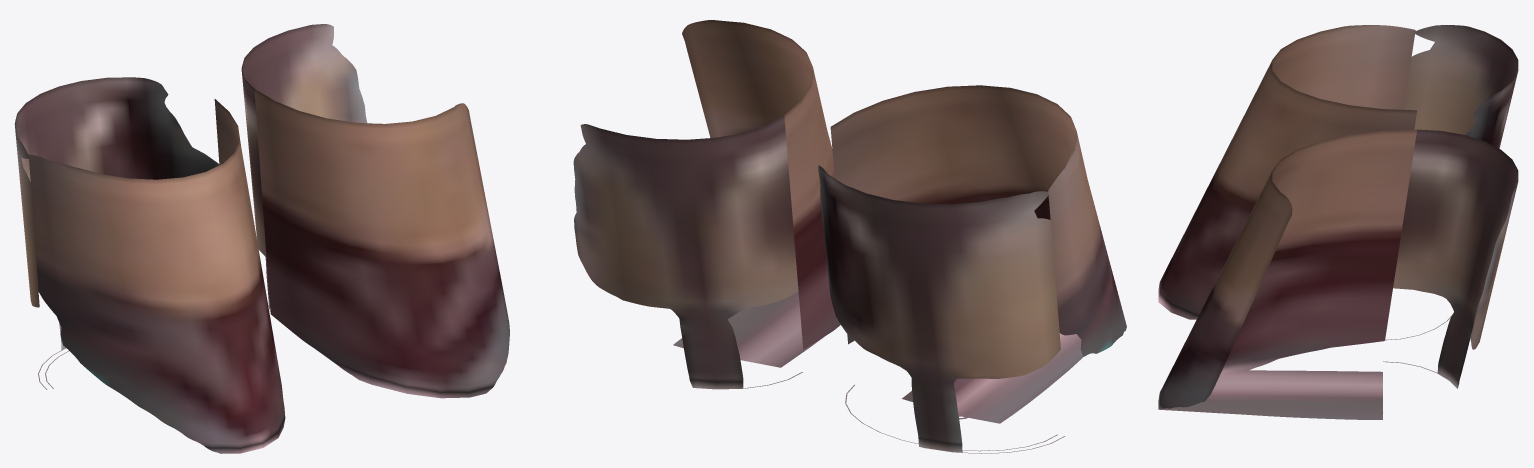
The model's file is prod-ae-burgundy-patent-heels.glb.
3 renders of one model, left to right at view 1: azimuth 30°, elevation 25°; view 2: azimuth 150°, elevation 25°; view 3: azimuth 270°, elevation 25°, orthographic. The views are drawn at different scales.
Parts seen in each view (by area): view 1: prod-ae-burgundy-patent-heels; view 2: prod-ae-burgundy-patent-heels; view 3: prod-ae-burgundy-patent-heels.
Boxes of the visible parts, left/top/right/bottom form: prod-ae-burgundy-patent-heels: left=14, top=24, right=509, bottom=453; prod-ae-burgundy-patent-heels: left=573, top=20, right=1126, bottom=453; prod-ae-burgundy-patent-heels: left=1158, top=25, right=1518, bottom=419.
Size of the model in its own units: 0.1694 by 0.0947 by 0.1279.
1 material, 1 textured.
